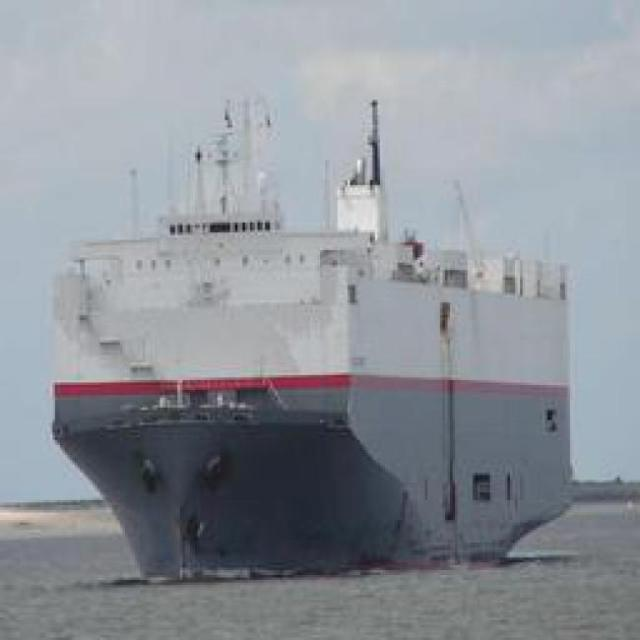boat: (26, 166, 606, 577)
